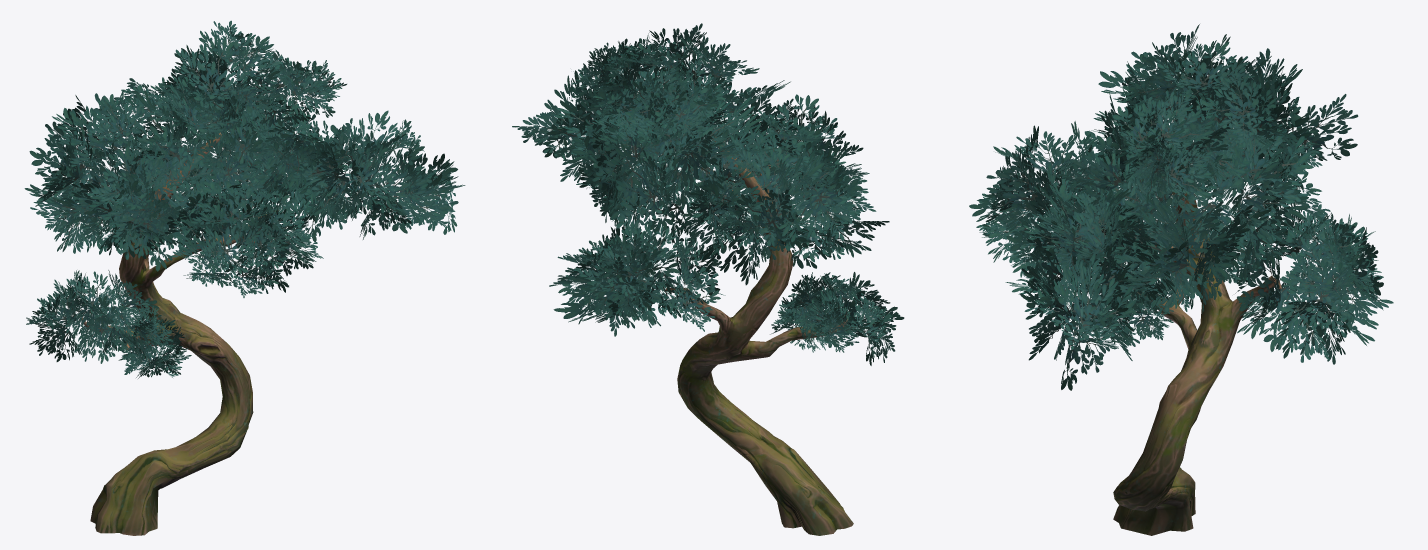
File: Tree02.fbx
3 views of the same model, side by side, from view 1: azimuth 30°, elevation 25°; view 2: azimuth 150°, elevation 25°; view 3: azimuth 270°, elevation 25° (orthographic). The views are drawn at different scales.
Parts seen in each view (by area): view 1: Tree02; view 2: Tree02; view 3: Tree02.
Boxes of the visible parts, bbox=[...] form: Tree02: bbox=[24, 20, 465, 535]; Tree02: bbox=[512, 23, 904, 535]; Tree02: bbox=[969, 24, 1393, 535].
Bounding box in the file's own units: 15.08 × 12.2 × 16.13.
Materials: 2 (2 with a texture image).
